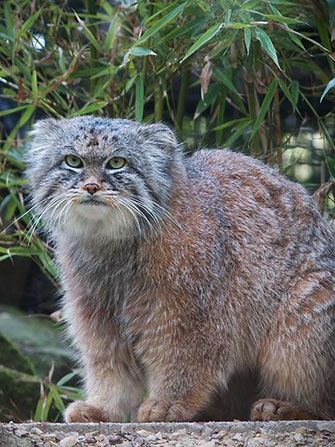cat: (16, 104, 335, 422)
